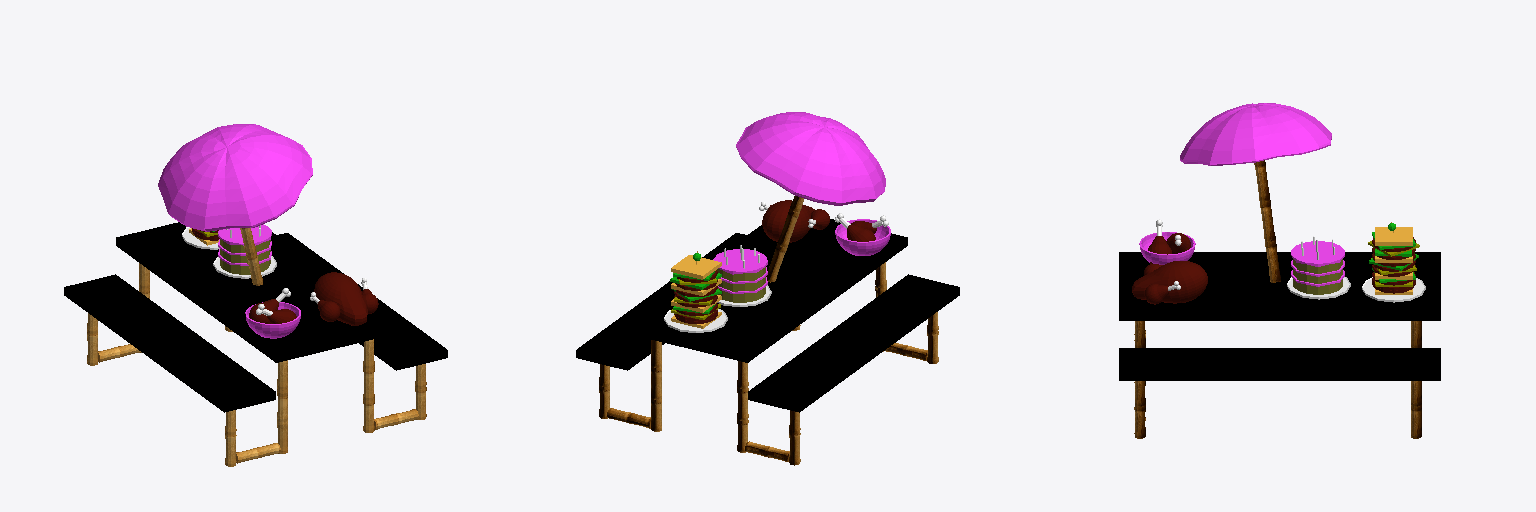
3 renders of one model, left to right at view 1: azimuth 30°, elevation 25°; view 2: azimuth 150°, elevation 25°; view 3: azimuth 270°, elevation 25°, orthographic.
Parts seen in each view (by area): view 1: PicnicTable Parasol Umbrella, Table1 PicnicTable Plank4, Table1 PicnicTable Plank1, Table1 PicnicTable Plank2, Table1 PicnicTable Plank5, Table1 PicnicTable Plank3, PicnicTable Chicken Chicken, PicnicTable WingBowl Bowl, PicnicTable BCake Frosting3; view 2: Table1 PicnicTable Plank4, PicnicTable Parasol Umbrella, Table1 PicnicTable Plank1, Table1 PicnicTable Plank2, Table1 PicnicTable Plank5, Table1 PicnicTable Plank3, PicnicTable Chicken Chicken, PicnicTable WingBowl Bowl, PicnicTable BCake Frosting3, PicnicTable Sandwich Bread5, PicnicTable Sandwich SandwichPlate; view 3: Table1 PicnicTable Plank5, Table1 PicnicTable Plank3, PicnicTable Parasol Umbrella, Table1 PicnicTable Plank1, Table1 PicnicTable Plank2, PicnicTable Chicken Chicken, PicnicTable BCake Frosting3, PicnicTable WingBowl Bowl, PicnicTable Sandwich Bread5, PicnicTable Sandwich SandwichPlate.
Part boxes in pixels (left/top/right/bottom): PicnicTable Parasol Umbrella: left=158, top=124, right=312, bottom=231; Table1 PicnicTable Plank4: left=64, top=274, right=275, bottom=412; Table1 PicnicTable Plank1: left=116, top=228, right=317, bottom=362; Table1 PicnicTable Plank2: left=157, top=222, right=357, bottom=352; Table1 PicnicTable Plank5: left=277, top=233, right=447, bottom=370; Table1 PicnicTable Plank3: left=271, top=232, right=398, bottom=342; PicnicTable Chicken Chicken: left=314, top=272, right=367, bottom=325; PicnicTable WingBowl Bowl: left=245, top=302, right=300, bottom=338; PicnicTable BCake Frosting3: left=218, top=224, right=271, bottom=245; Table1 PicnicTable Plank4: left=748, top=274, right=959, bottom=412; PicnicTable Parasol Umbrella: left=736, top=112, right=885, bottom=205; Table1 PicnicTable Plank1: left=706, top=233, right=907, bottom=362; Table1 PicnicTable Plank2: left=666, top=219, right=840, bottom=352; Table1 PicnicTable Plank5: left=576, top=233, right=746, bottom=370; Table1 PicnicTable Plank3: left=625, top=225, right=811, bottom=342; PicnicTable Chicken Chicken: left=762, top=200, right=814, bottom=242; PicnicTable WingBowl Bowl: left=835, top=219, right=890, bottom=255; PicnicTable BCake Frosting3: left=713, top=249, right=767, bottom=274; PicnicTable Sandwich Bread5: left=671, top=255, right=721, bottom=279; PicnicTable Sandwich SandwichPlate: left=664, top=309, right=727, bottom=332; Table1 PicnicTable Plank5: left=1119, top=348, right=1440, bottom=380; Table1 PicnicTable Plank3: left=1119, top=292, right=1440, bottom=320; PicnicTable Parasol Umbrella: left=1180, top=103, right=1331, bottom=165; Table1 PicnicTable Plank1: left=1119, top=252, right=1440, bottom=271; Table1 PicnicTable Plank2: left=1119, top=272, right=1440, bottom=291; PicnicTable Chicken Chicken: left=1132, top=261, right=1207, bottom=303; PicnicTable BCake Frosting3: left=1291, top=241, right=1344, bottom=266; PicnicTable WingBowl Bowl: left=1139, top=232, right=1195, bottom=264; PicnicTable Sandwich Bread5: left=1375, top=227, right=1412, bottom=245; PicnicTable Sandwich SandwichPlate: left=1362, top=277, right=1425, bottom=302.
Bounding box in the file's own units: 17.65 × 20.24 × 21.93.
18 materials, 1 textured.